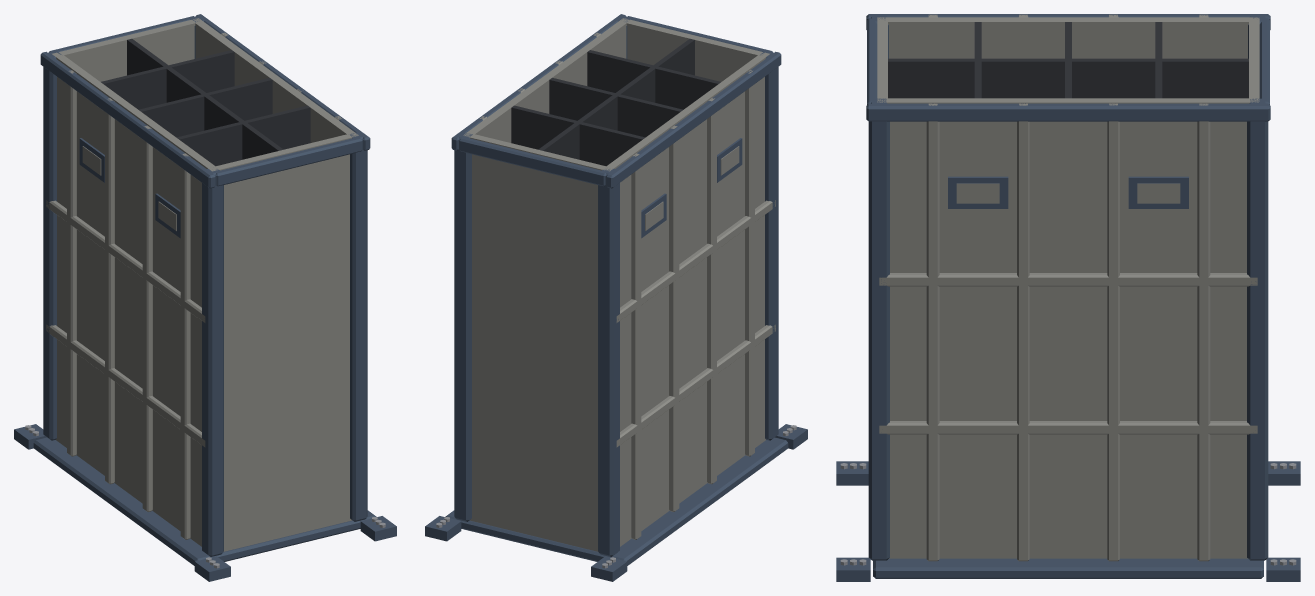
File: mp8_housing.obj
3 views of the same model, side by side, from view 1: azimuth 30°, elevation 25°; view 2: azimuth 150°, elevation 25°; view 3: azimuth 270°, elevation 25° (orthographic). The views are drawn at different scales.
Visible parts, largest first — view 1: mp8_housing; view 2: mp8_housing; view 3: mp8_housing.
Part boxes in pixels (left/top/right/bottom): mp8_housing: left=14, top=14, right=396, bottom=581; mp8_housing: left=425, top=14, right=807, bottom=581; mp8_housing: left=836, top=14, right=1300, bottom=581.
Bounding box in the file's own units: 0.6 × 1.2 × 1.08.
